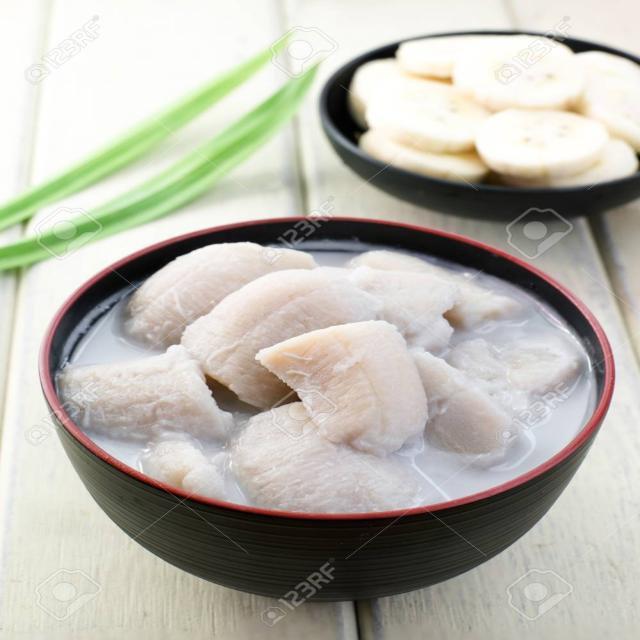platano: (64, 229, 594, 513), (364, 26, 618, 193)
